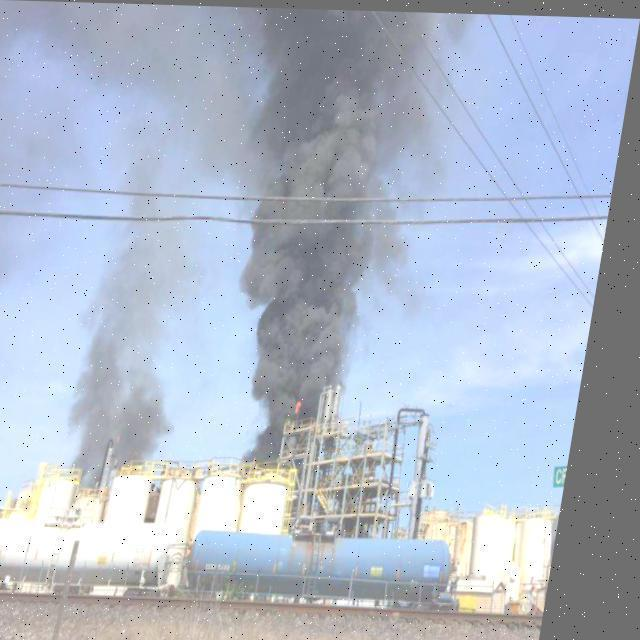Fire: (304, 390, 319, 416)
